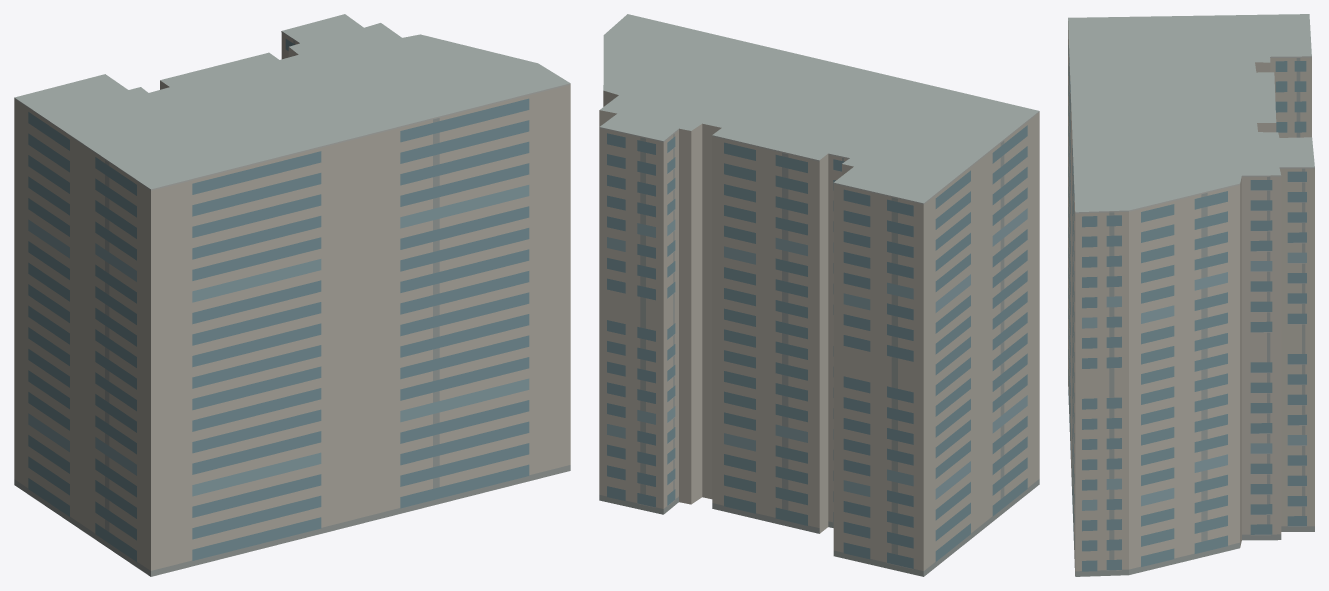
File: residential-ceb5e29e-d59d-4d61-bb6a-f309f0e0399f.glb
3 views of the same model, side by side, from view 1: azimuth 30°, elevation 25°; view 2: azimuth 150°, elevation 25°; view 3: azimuth 270°, elevation 25° (orthographic). The views are drawn at different scales.
Visible parts, largest first — view 1: residential-ceb5e29e-d59d-4d61-bb6a-f309f0e0399f.tmp; view 2: residential-ceb5e29e-d59d-4d61-bb6a-f309f0e0399f.tmp; view 3: residential-ceb5e29e-d59d-4d61-bb6a-f309f0e0399f.tmp.
Part boxes in pixels (box(x1,y1,x2,y2)): residential-ceb5e29e-d59d-4d61-bb6a-f309f0e0399f.tmp: box(14, 14, 570, 576); residential-ceb5e29e-d59d-4d61-bb6a-f309f0e0399f.tmp: box(599, 14, 1039, 576); residential-ceb5e29e-d59d-4d61-bb6a-f309f0e0399f.tmp: box(1068, 14, 1314, 576).
Bounding box in the file's own units: 78.13 × 67 × 41.12.
